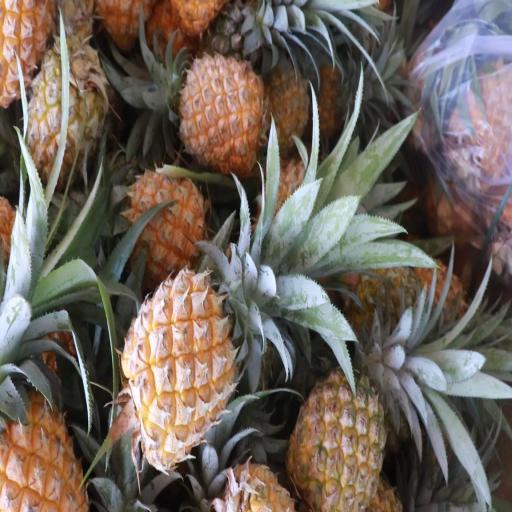------------------------------: (291, 370, 386, 512), (22, 46, 104, 193)
Pineapple - v8 v1: (122, 274, 237, 457), (0, 377, 87, 512), (178, 58, 263, 170), (125, 170, 206, 278)
